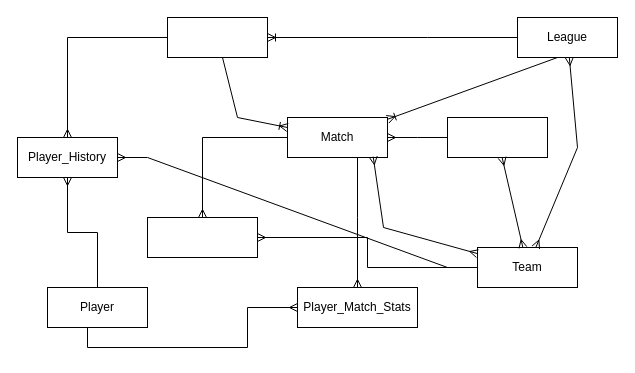
This 635x373 diagram has some shape labels left out. Here are the shapes that lost their labels. From the top down, the centre of each, then its label:
pixel 217 37: Season
pixel 497 137: Arena
pixel 202 237: Team_Match_Stats
